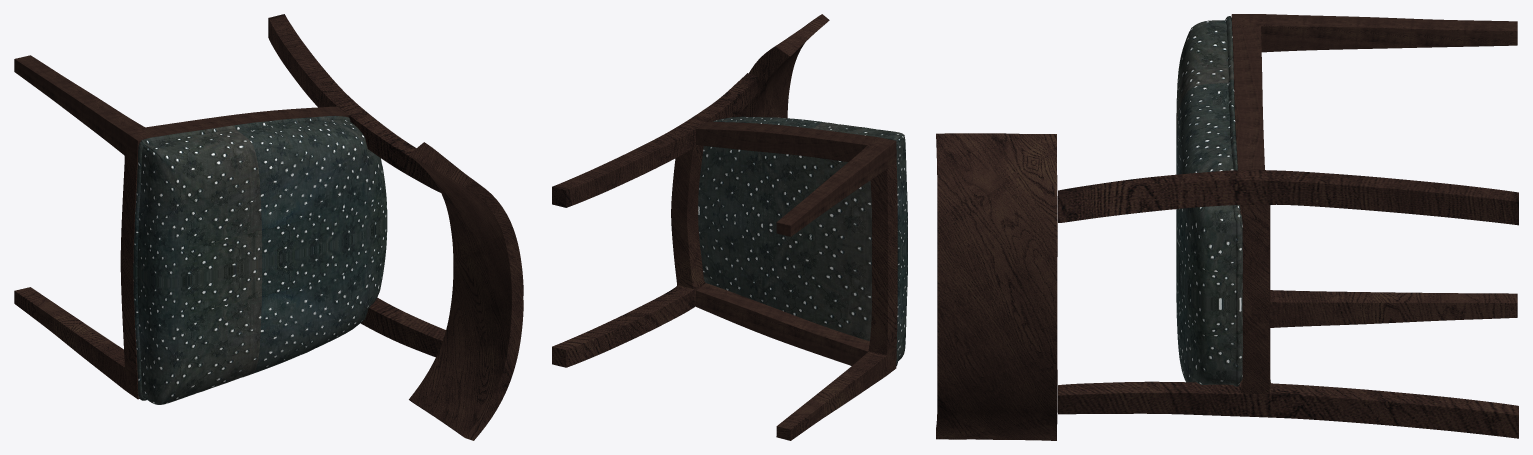
File: MAXALTO Chair N010923.obj
3 views of the same model, side by side, from view 1: azimuth 30°, elevation 25°; view 2: azimuth 150°, elevation 25°; view 3: azimuth 270°, elevation 25° (orthographic). The views are drawn at different scales.
Visible parts, largest first — view 1: fabric017, Object024; view 2: Object024, fabric017; view 3: Object024, fabric017.
Part boxes in pixels (left/top/right/bottom): fabric017: left=133, top=115, right=387, bottom=404; Object024: left=14, top=14, right=523, bottom=440; Object024: left=552, top=14, right=897, bottom=440; fabric017: left=698, top=116, right=907, bottom=365; Object024: left=936, top=14, right=1518, bottom=440; fabric017: left=1176, top=16, right=1243, bottom=386.
Size of the model in its own units: 51.96 by 47.6 by 81.79.
Materials: 2 (2 with a texture image).
